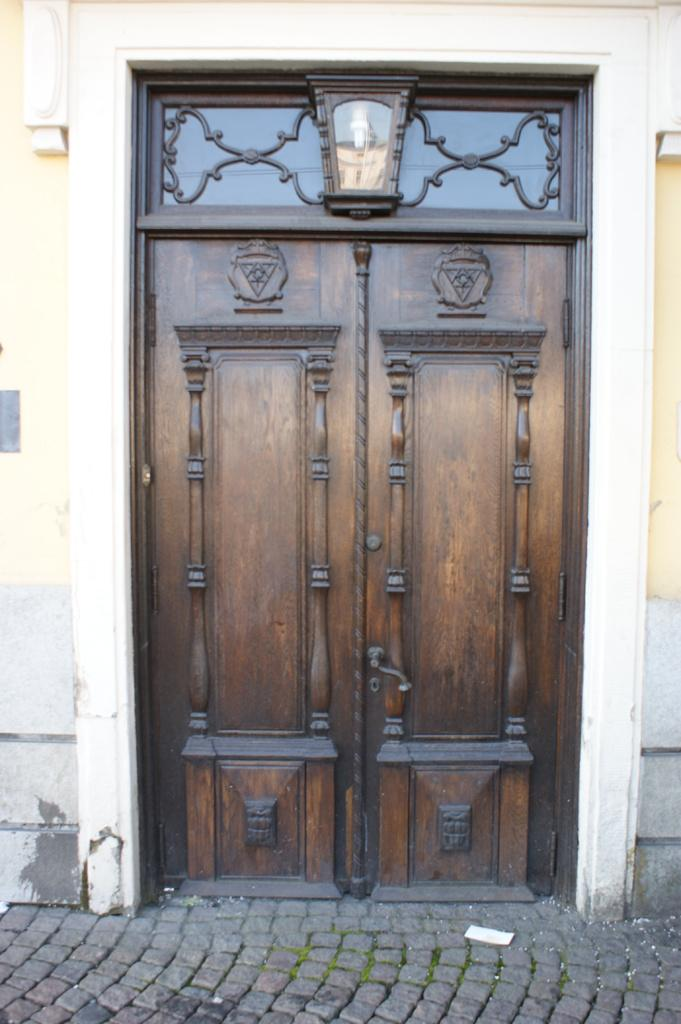handle: (370, 651, 410, 694)
